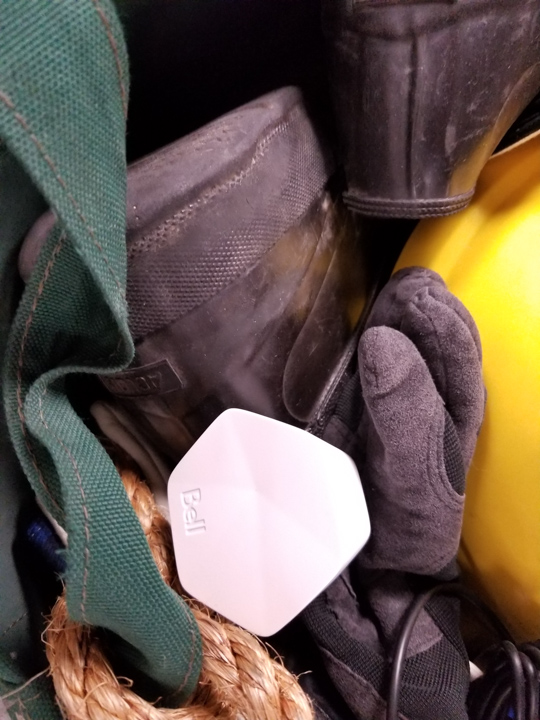pod: (163, 402, 386, 642)
